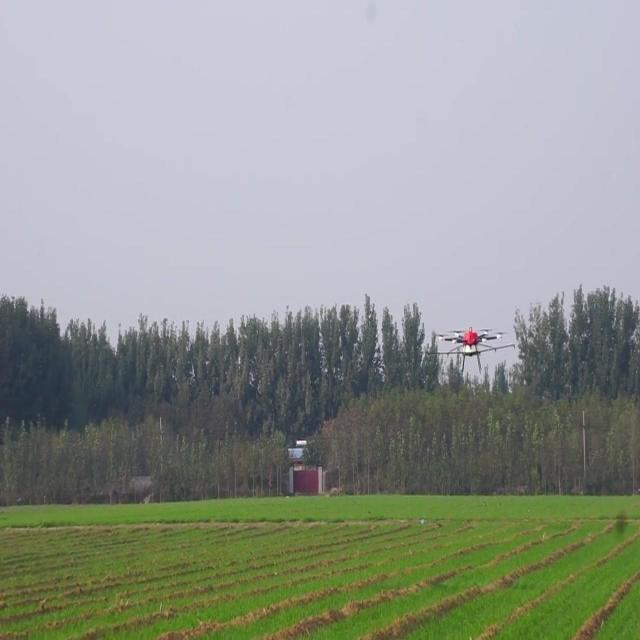UAV: (428, 326, 516, 374)
